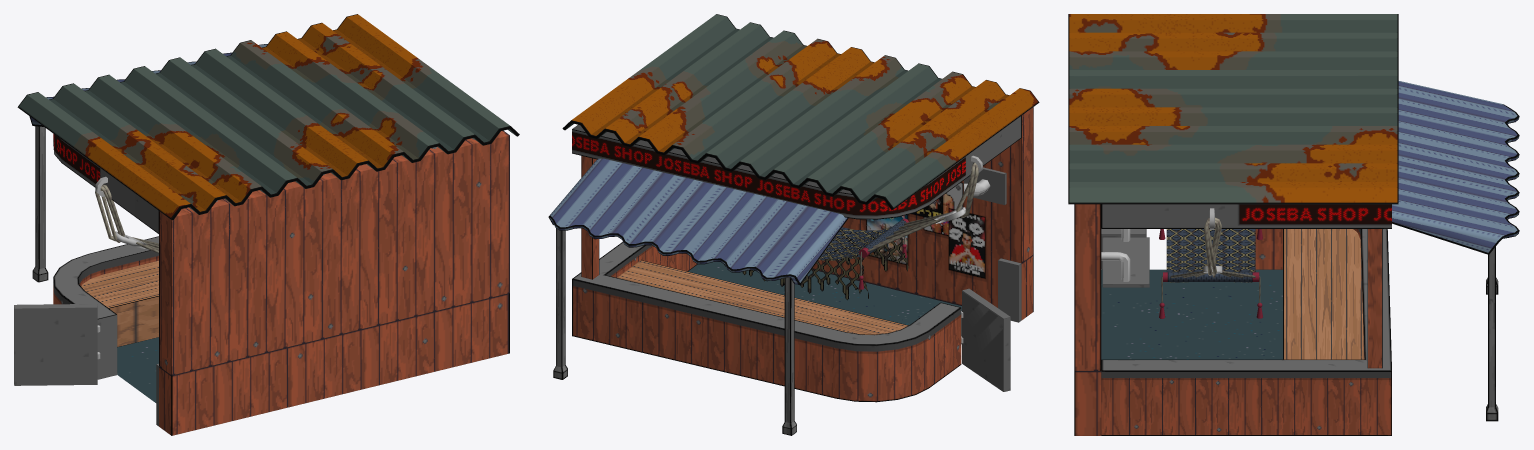
Rendered from Building_Chiringuito_Joseba.fbx.
3 views of the same model, side by side, from view 1: azimuth 30°, elevation 25°; view 2: azimuth 150°, elevation 25°; view 3: azimuth 270°, elevation 25° (orthographic). The views are drawn at different scales.
Visible parts, largest first — view 1: Plane.002; view 2: Plane.002; view 3: Plane.002.
Boxes of the visible parts, bbox=[...] form: Plane.002: bbox=[14, 14, 519, 435]; Plane.002: bbox=[548, 14, 1039, 435]; Plane.002: bbox=[1068, 14, 1519, 435].
Size of the model in its own units: 7.26 by 3.84 by 6.34.
